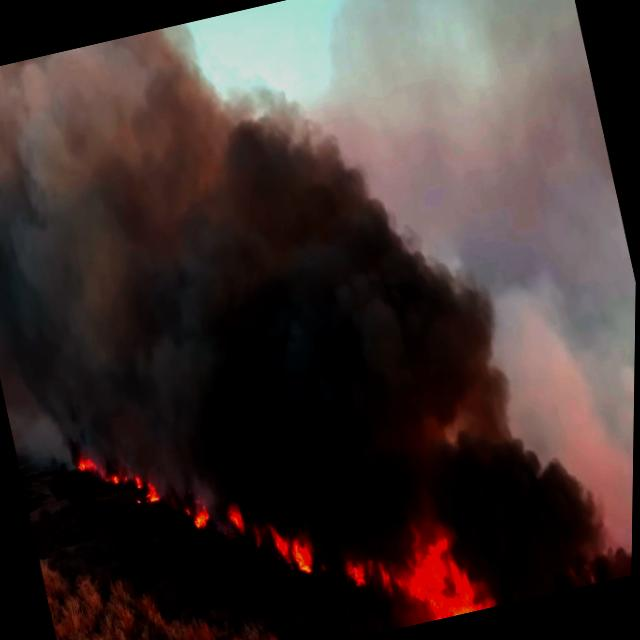fire: (405, 528, 533, 624)
smoke: (138, 31, 502, 518), (0, 28, 259, 502), (0, 30, 225, 390), (440, 412, 588, 528)
